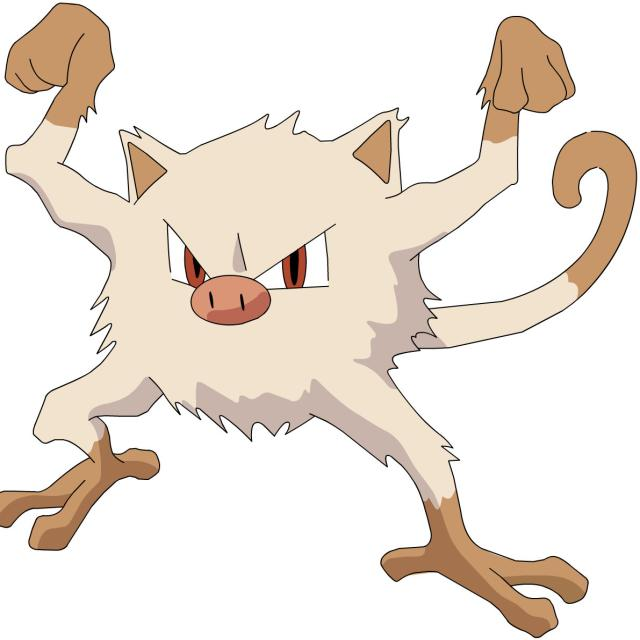Mankey: (28, 72, 499, 490)
